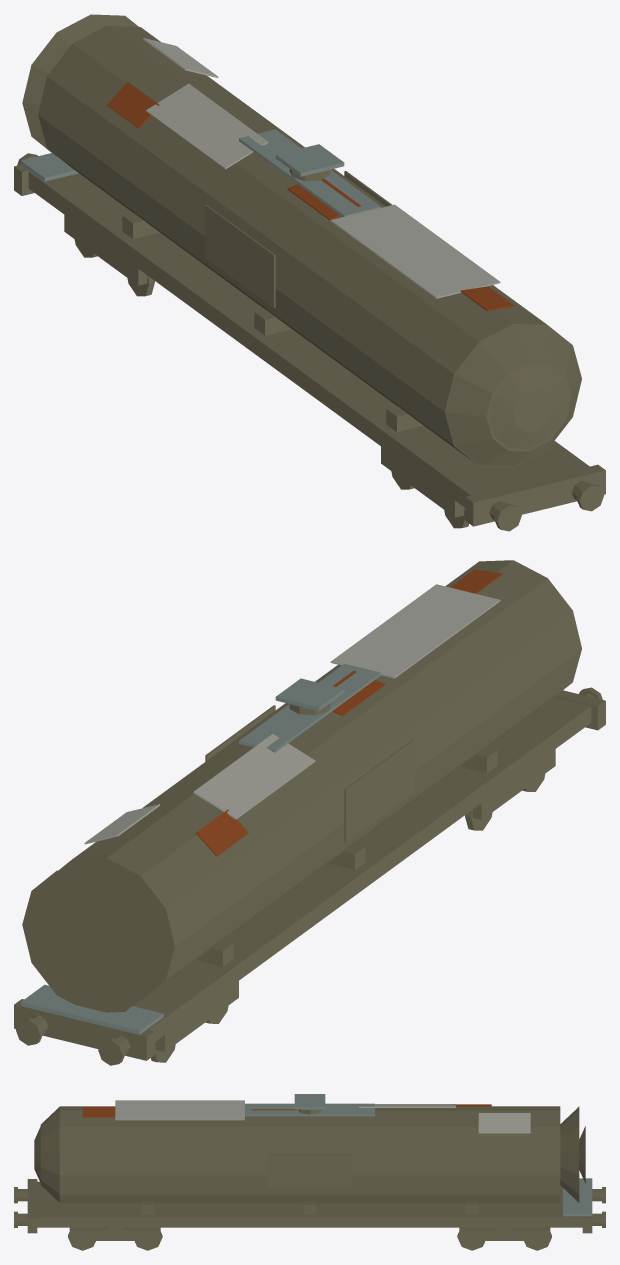
File: SM_VagonCisterna_v4_Quemada_LOD1.fbx
3 renders of one model, top to bottom at view 1: azimuth 30°, elevation 25°; view 2: azimuth 150°, elevation 25°; view 3: azimuth 270°, elevation 25°, orthographic. The views are drawn at different scales.
Parts seen in each view (by area): view 1: SM_bloques.vagon_cisterna_v4_LOD1; view 2: SM_bloques.vagon_cisterna_v4_LOD1; view 3: SM_bloques.vagon_cisterna_v4_LOD1.
Part boxes in pixels (<box>): SM_bloques.vagon_cisterna_v4_LOD1: <box>14,14,605,531</box>; SM_bloques.vagon_cisterna_v4_LOD1: <box>14,560,605,1065</box>; SM_bloques.vagon_cisterna_v4_LOD1: <box>14,1094,605,1250</box>.
Bounding box in the file's own units: 3.08 × 4.69 × 18.24.
